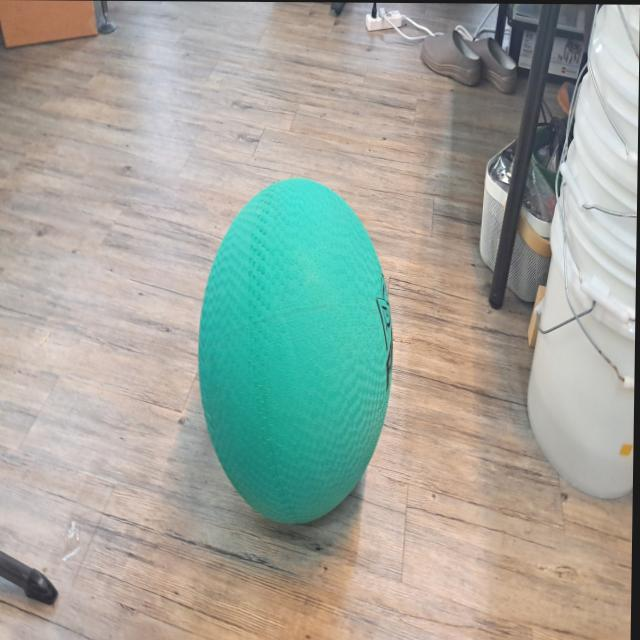ALGAE: (193, 172, 397, 527)
